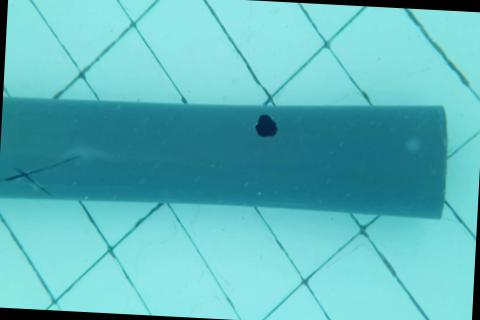kebocoran: (254, 113, 279, 140)
keretakan: (0, 149, 82, 197)
